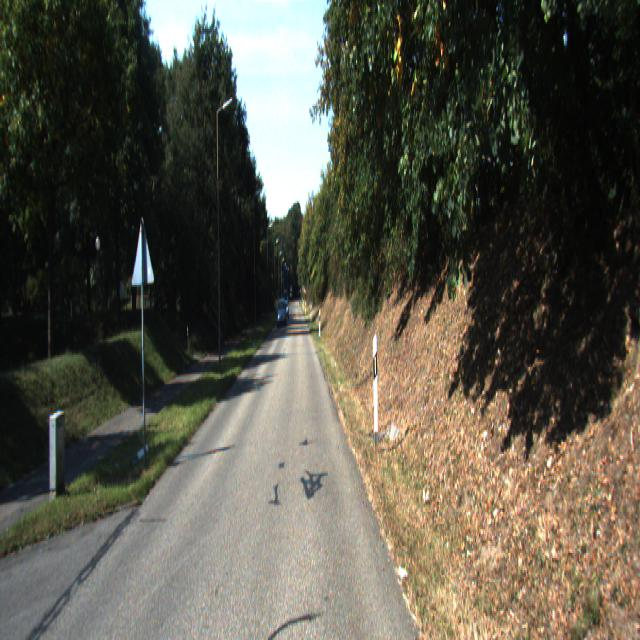Car: (277, 298, 286, 328)
